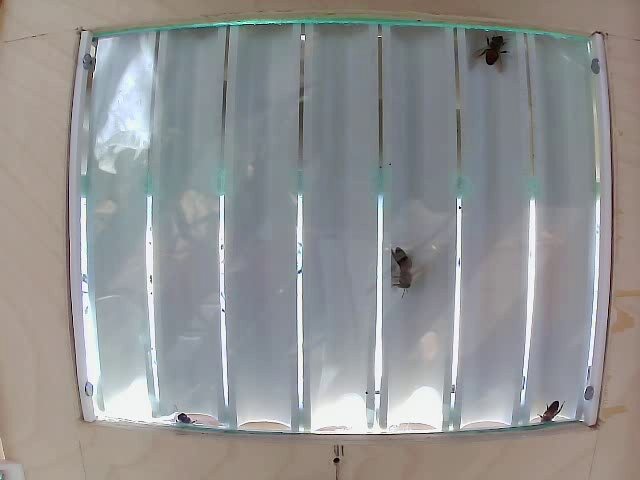bee: (389, 244, 415, 293), (480, 27, 507, 72), (538, 397, 567, 427)
